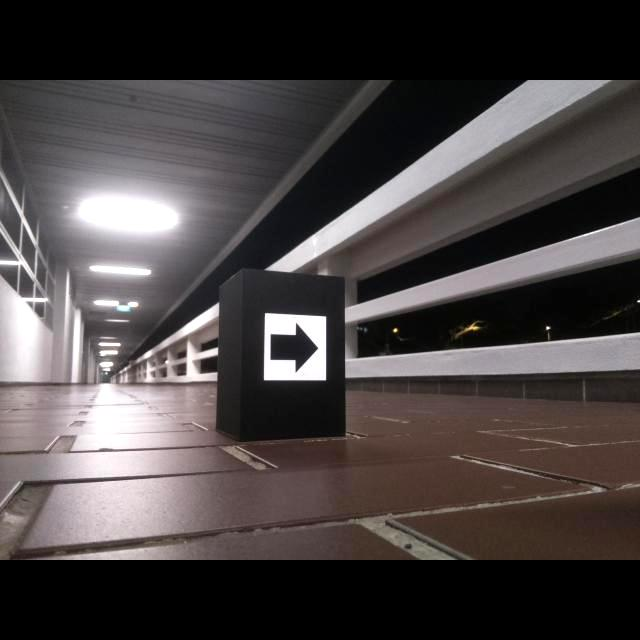RIGHT: (271, 322, 318, 372)
